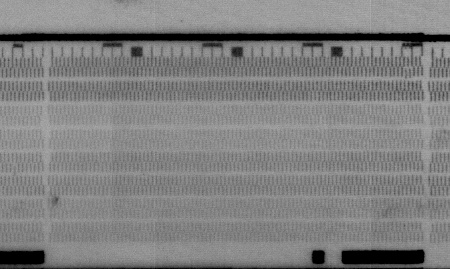Oblique printing: (400, 66, 416, 80), (8, 163, 21, 178)
